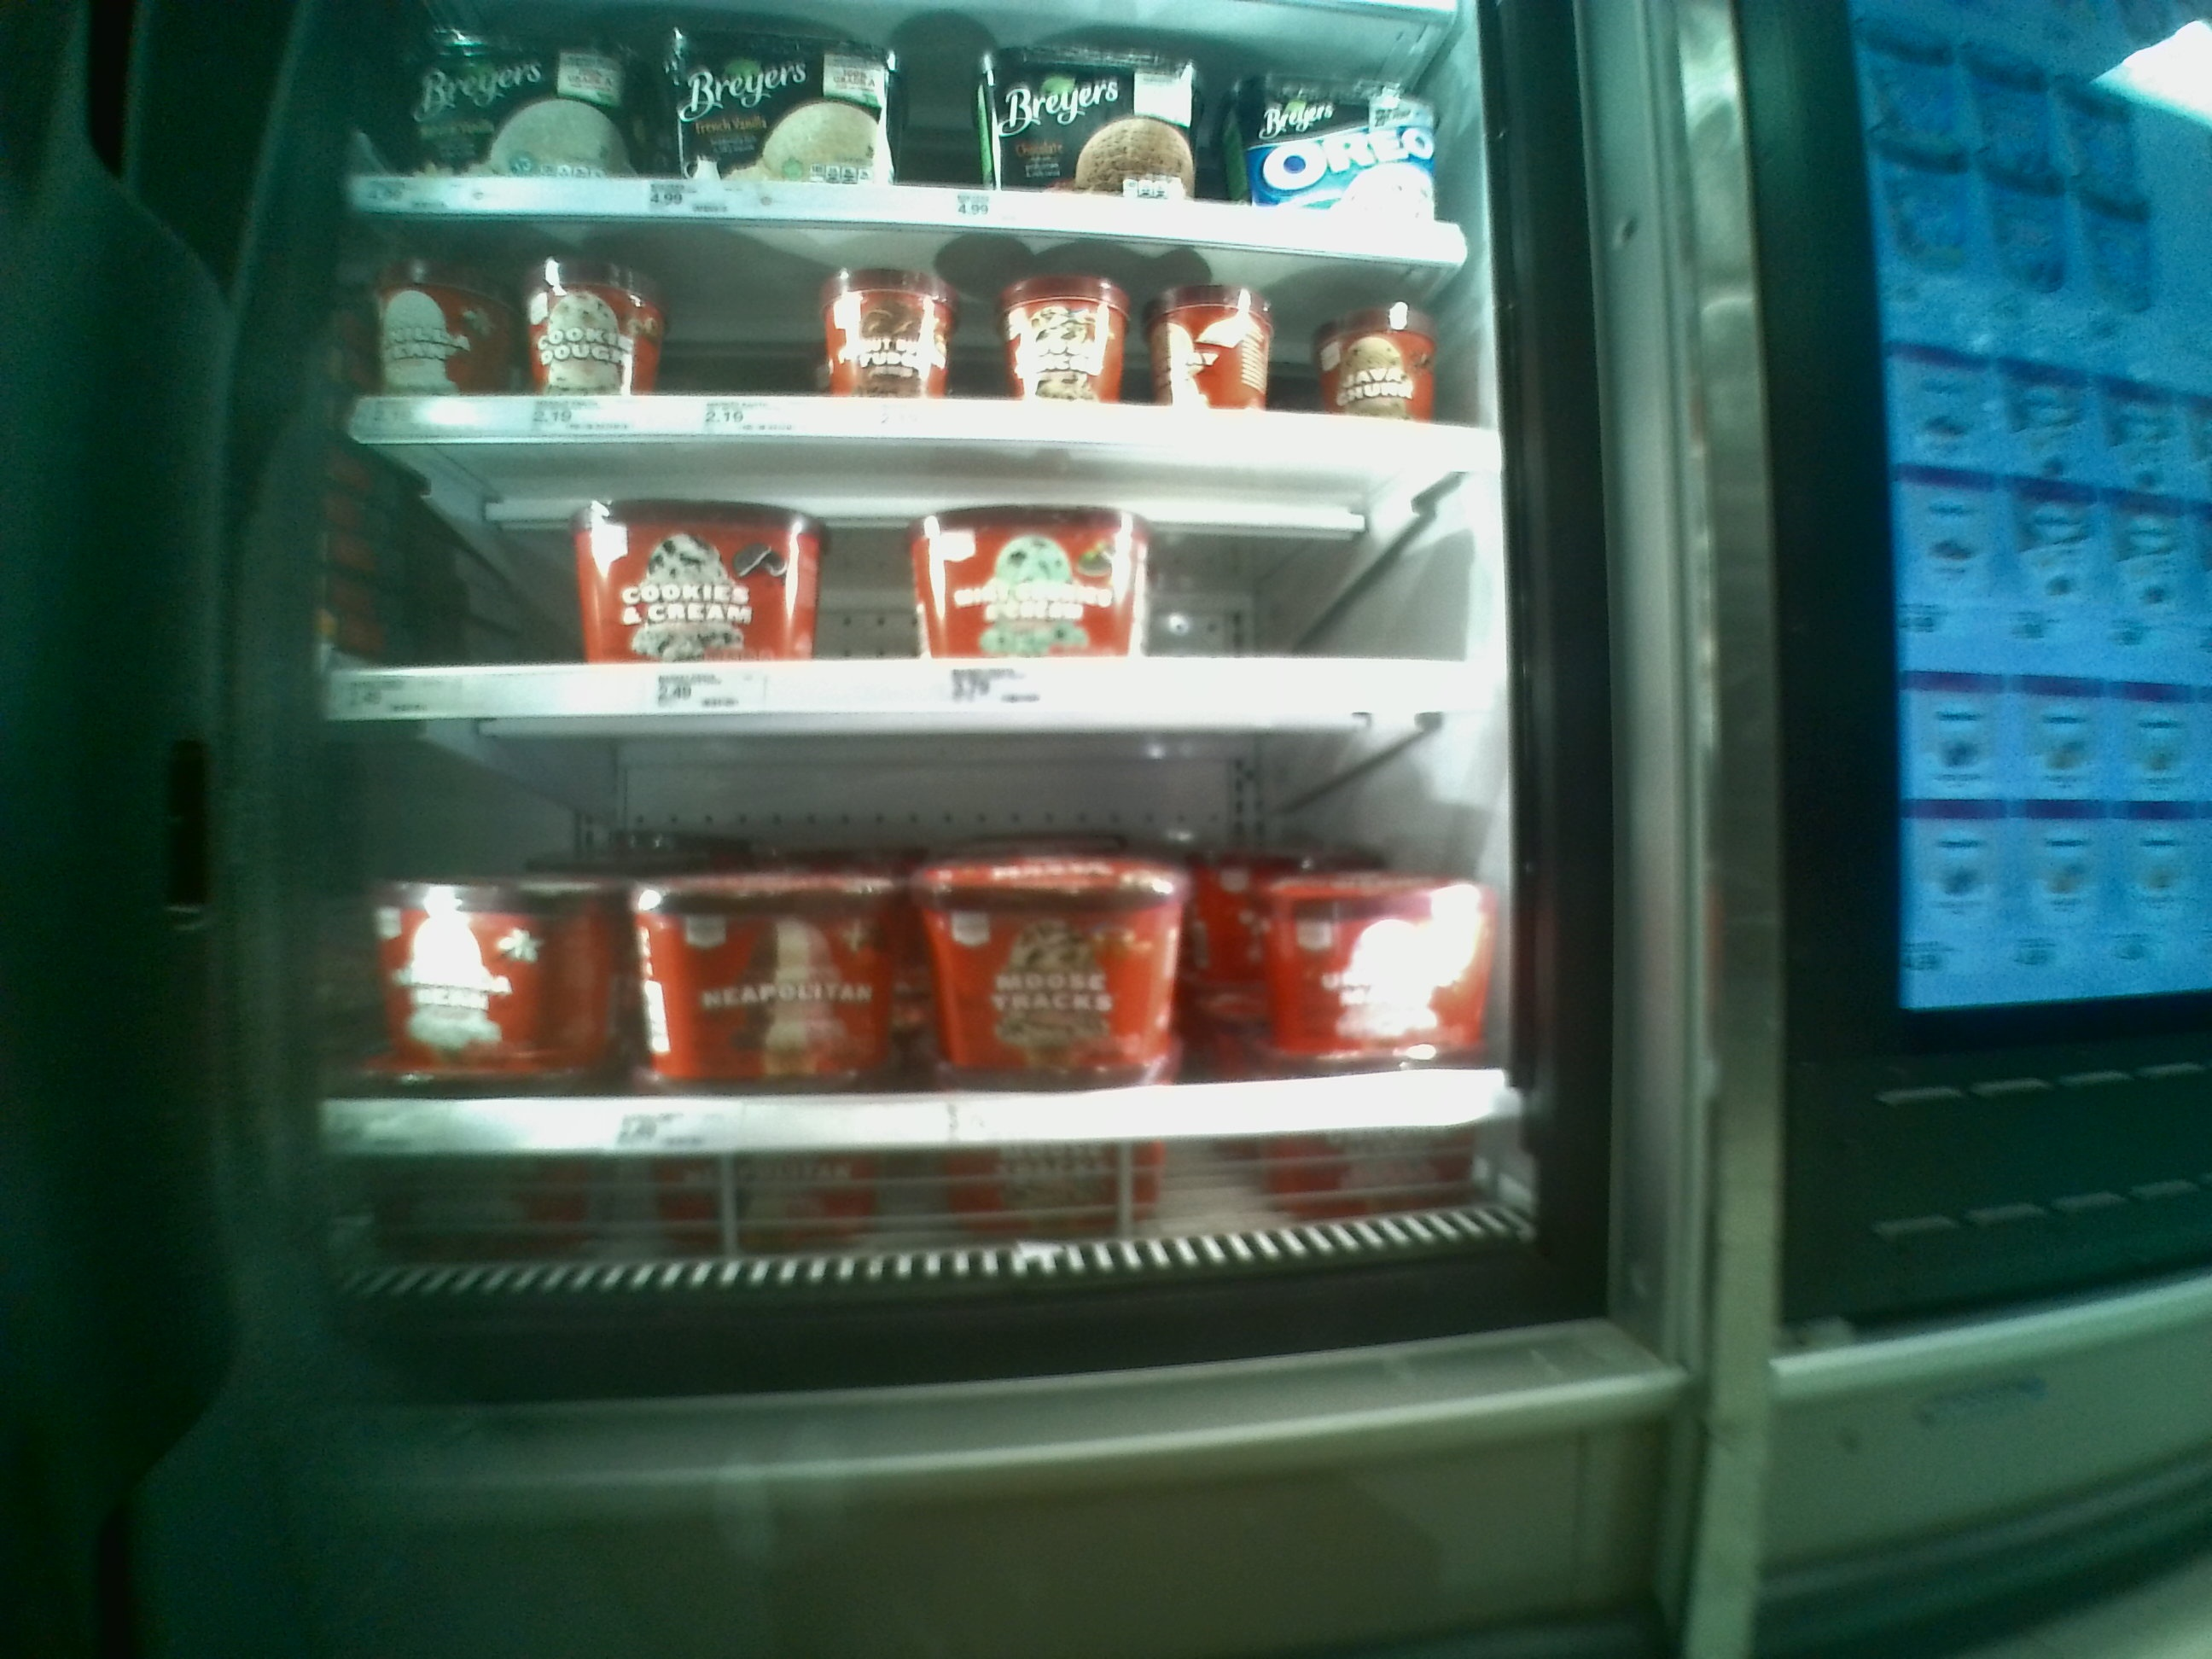ice-cream-shelf: (314, 721, 1526, 1175), (320, 441, 1486, 727), (329, 199, 1491, 446)
